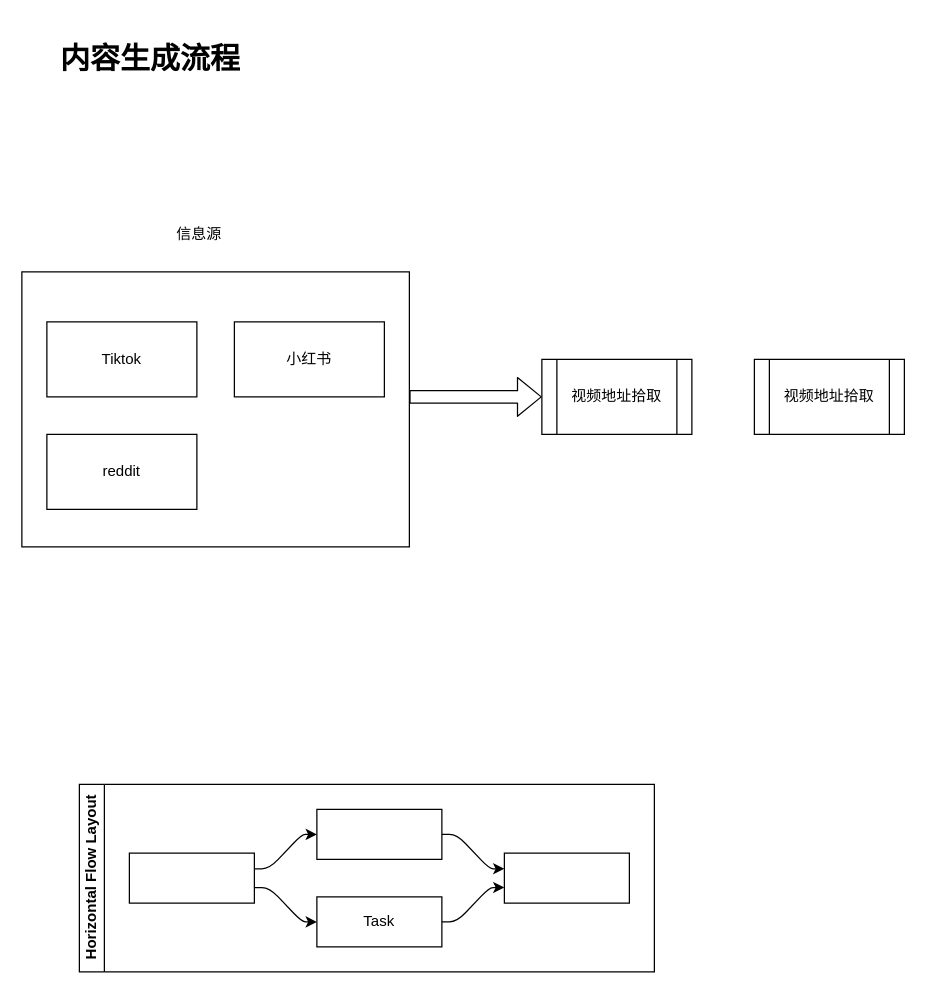
The diagram is 926 pixels wide and 994 high, and some of its shapes have lost their labels. The shapes that lost their labels are listed below. From the top down, each one's centre as x and y in pixels, then its label:
At point (191, 877): "Start".
At point (566, 877): "End".
